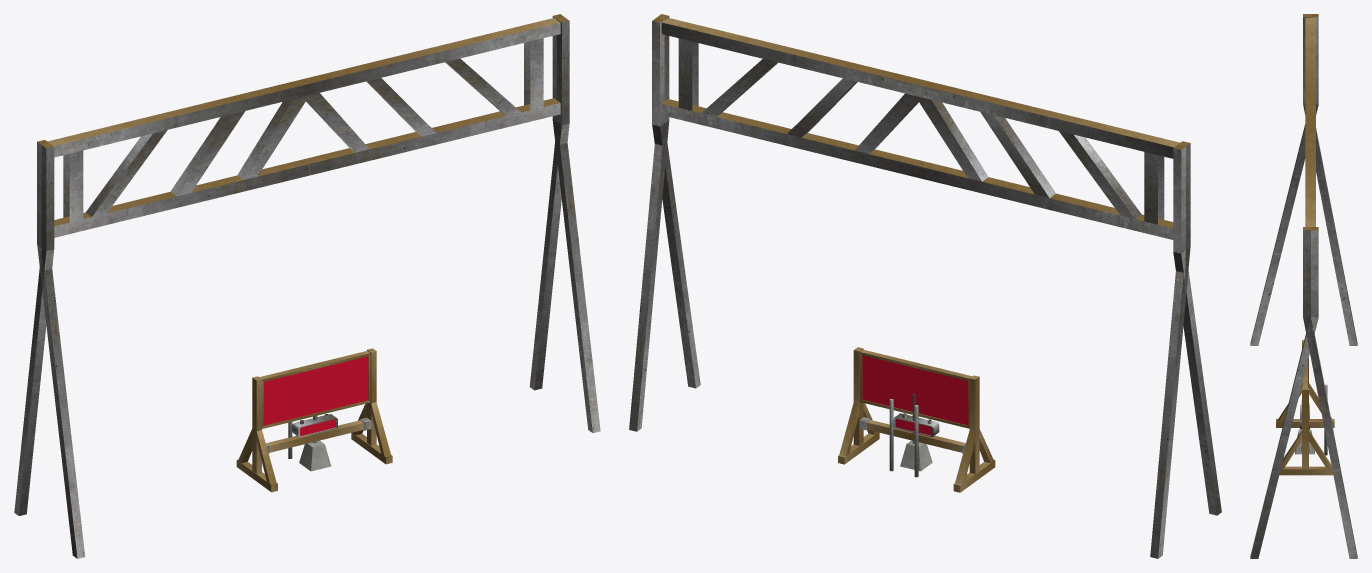
File: SignBases.fbx
3 views of the same model, side by side, from view 1: azimuth 30°, elevation 25°; view 2: azimuth 150°, elevation 25°; view 3: azimuth 270°, elevation 25° (orthographic). The views are drawn at different scales.
Visible parts, largest first — view 1: RoadSign_HighBase, LedArrowRoadSign, CementBase, HangingSign; view 2: RoadSign_HighBase, LedArrowRoadSign, RoadSignBase_Pair; view 3: RoadSign_HighBase, LedArrowRoadSign, CementBase.
Part boxes in pixels (box(x1,y1,x2,y2)): RoadSign_HighBase: box(14, 14, 600, 558); LedArrowRoadSign: box(236, 348, 392, 492); CementBase: box(299, 440, 331, 471); HangingSign: box(292, 414, 337, 437); RoadSign_HighBase: box(629, 14, 1221, 558); LedArrowRoadSign: box(838, 347, 995, 492); RoadSignBase_Pair: box(889, 399, 918, 477); RoadSign_HighBase: box(1250, 14, 1357, 558); LedArrowRoadSign: box(1276, 340, 1334, 475); CementBase: box(1295, 429, 1314, 454).
Bounding box in the file's own units: 2283 × 1617 × 477.
